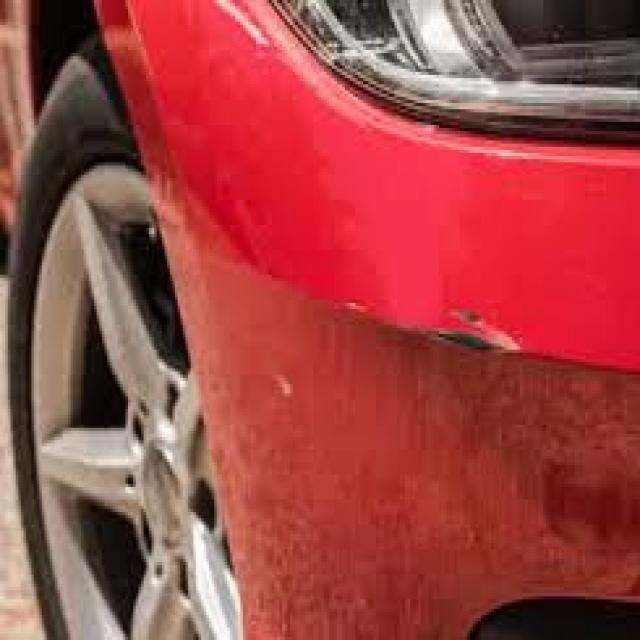dent-or-scratch: (383, 279, 539, 396)
